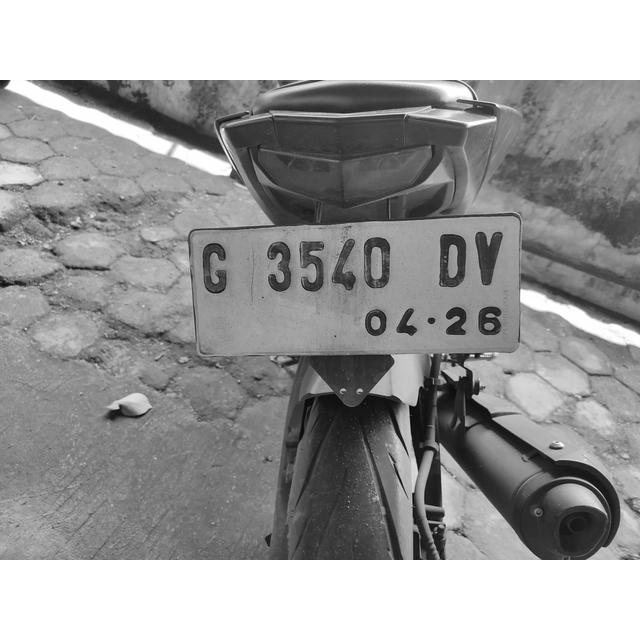license: (200, 227, 513, 343)
